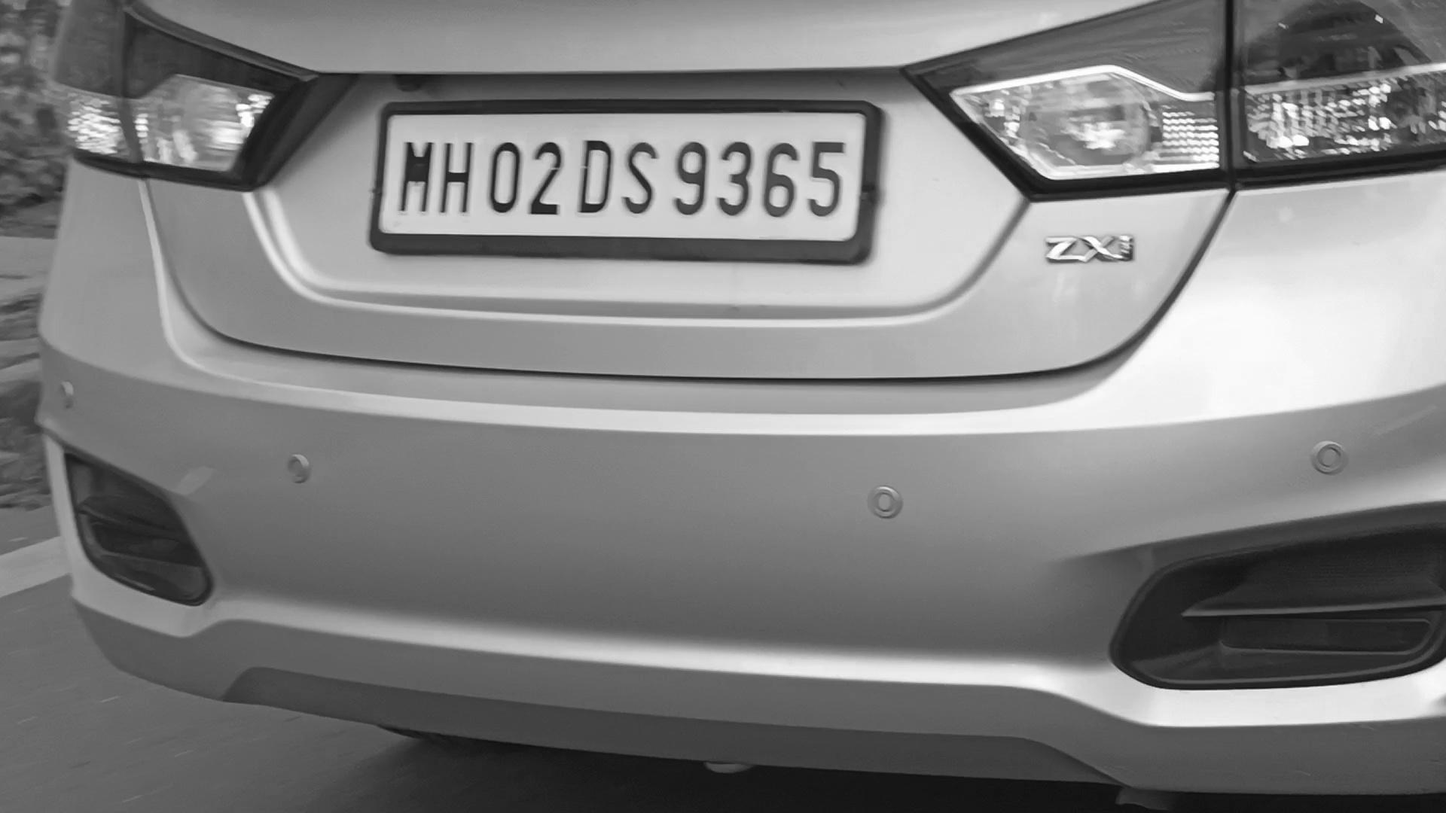number_plate: (388, 119, 869, 246)
